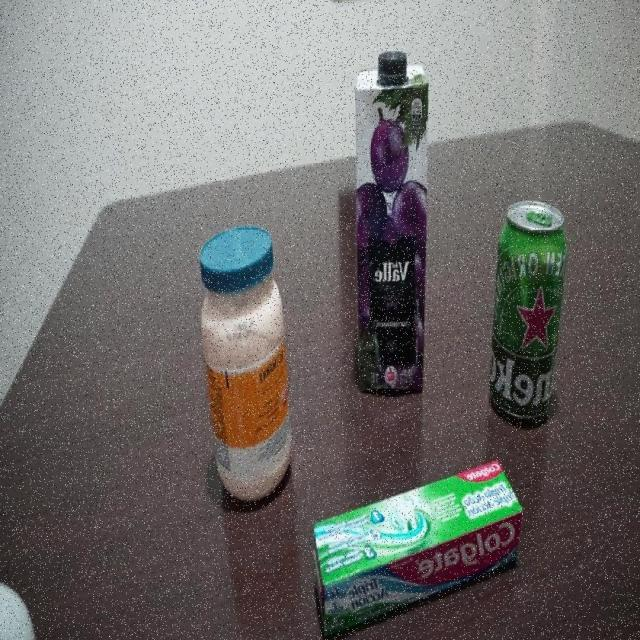BeerCan: (486, 197, 572, 426)
Mayonnaise: (198, 224, 294, 504)
Toothpaste: (309, 458, 524, 636)
